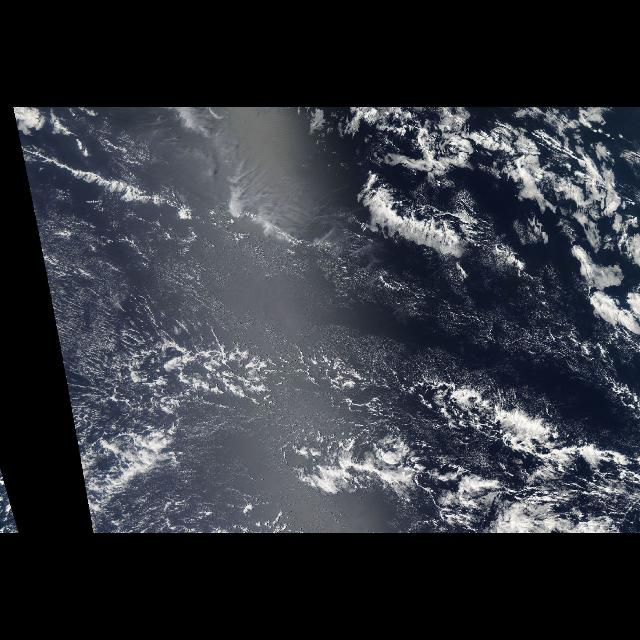Fish: (284, 374, 636, 524)
Sugar: (78, 240, 432, 360)
